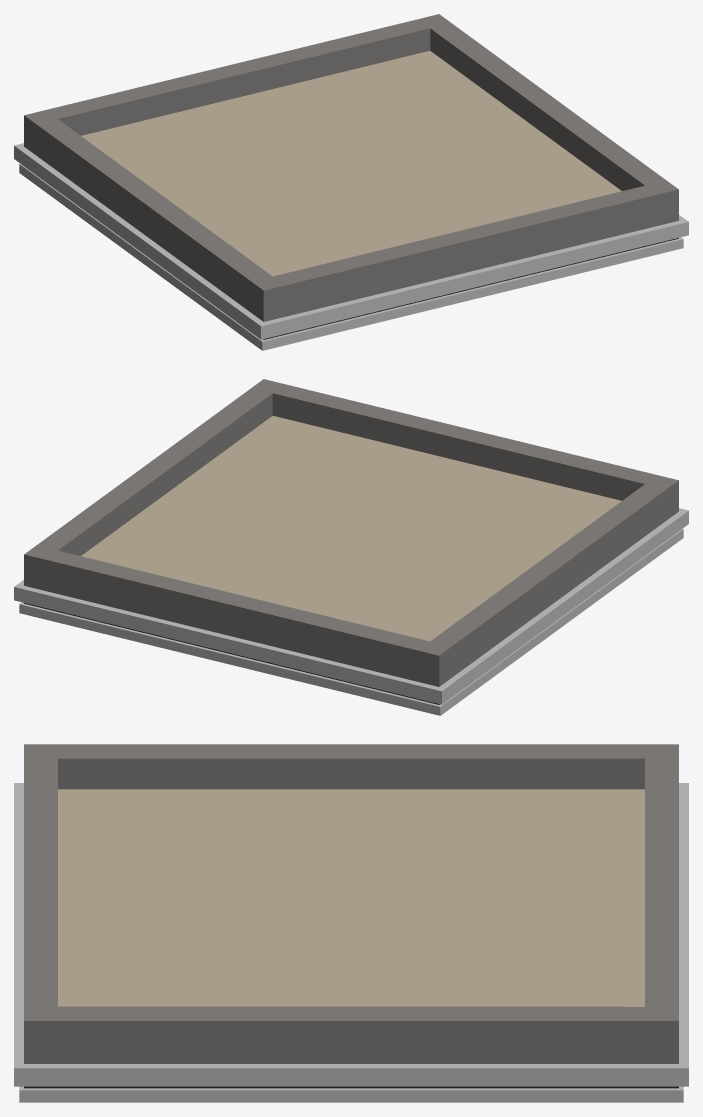
Rendered from Building_C_04.FBX.
3 views of the same model, one above another, from view 1: azimuth 30°, elevation 25°; view 2: azimuth 150°, elevation 25°; view 3: azimuth 270°, elevation 25° (orthographic). The views are drawn at different scales.
Visible parts, largest first — view 1: Building_C_04; view 2: Building_C_04; view 3: Building_C_04.
Part boxes in pixels (<box>): Building_C_04: <box>14,14,688,350</box>; Building_C_04: <box>14,379,688,715</box>; Building_C_04: <box>14,744,688,1102</box>.
Bounding box in the file's own units: 10 × 1.3 × 10.
